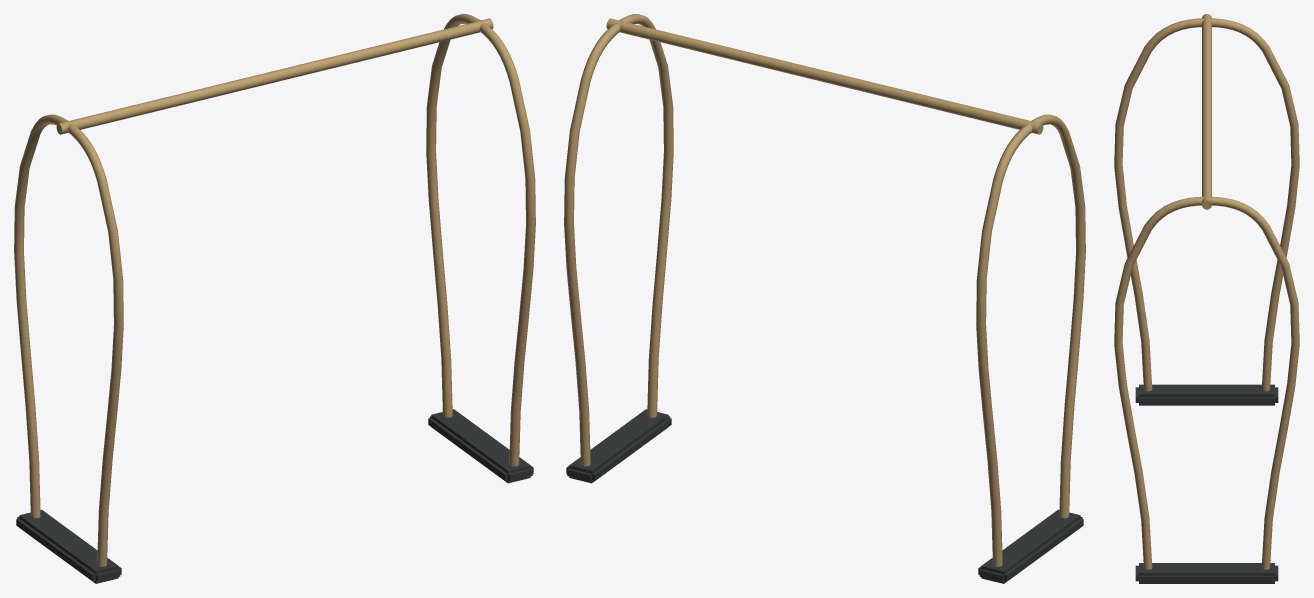
File: fixture_v25_gallery_rail.glb
3 views of the same model, side by side, from view 1: azimuth 30°, elevation 25°; view 2: azimuth 150°, elevation 25°; view 3: azimuth 270°, elevation 25° (orthographic). The views are drawn at different scales.
Parts seen in each view (by area): view 1: fixture_v25_gallery_rail_Satin_champagne, fixture_v25_gallery_rail_Anodised_graphite; view 2: fixture_v25_gallery_rail_Satin_champagne, fixture_v25_gallery_rail_Anodised_graphite; view 3: fixture_v25_gallery_rail_Satin_champagne, fixture_v25_gallery_rail_Anodised_graphite.
Part boxes in pixels (x1,y1,x2,y2): fixture_v25_gallery_rail_Satin_champagne: (14,14,535,566); fixture_v25_gallery_rail_Anodised_graphite: (16,409,533,583); fixture_v25_gallery_rail_Satin_champagne: (564,14,1085,566); fixture_v25_gallery_rail_Anodised_graphite: (566,409,1083,583); fixture_v25_gallery_rail_Satin_champagne: (1114,14,1299,569); fixture_v25_gallery_rail_Anodised_graphite: (1135,384,1278,583).
Size of the model in its own units: 1.84 by 1.72 by 0.7562.
